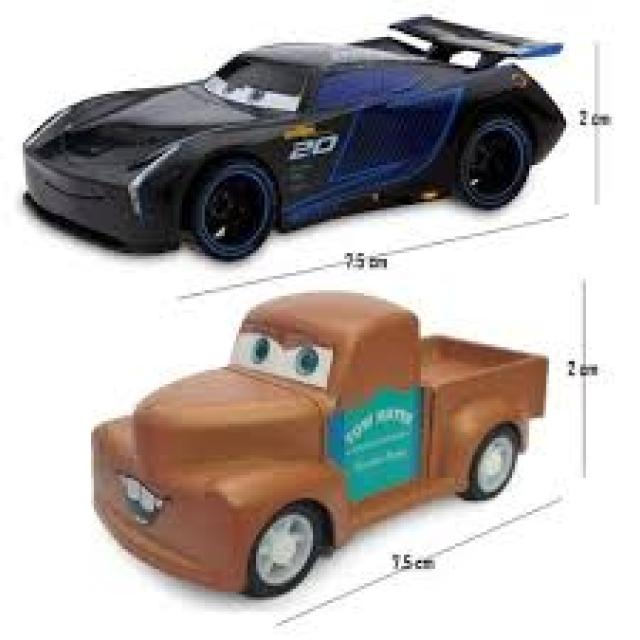Car: (88, 288, 549, 598), (20, 11, 566, 262)
